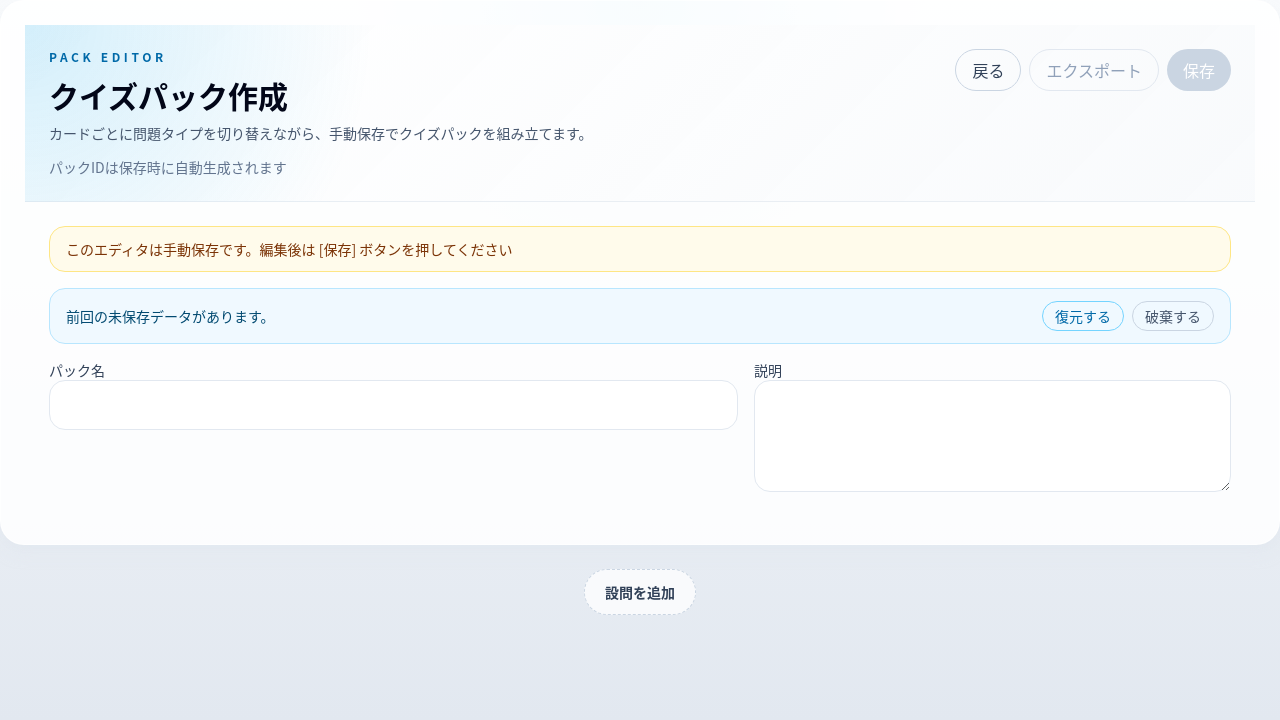
Test case: QuizEditorPage › クラッシュリカバリ › 「破棄する」を選択するとリカバリデータを削除して通常起動する
The image size is (1280, 720).
Click the button "破棄する".
click(1173, 316)  # box left=1132, top=301, right=1214, bottom=331
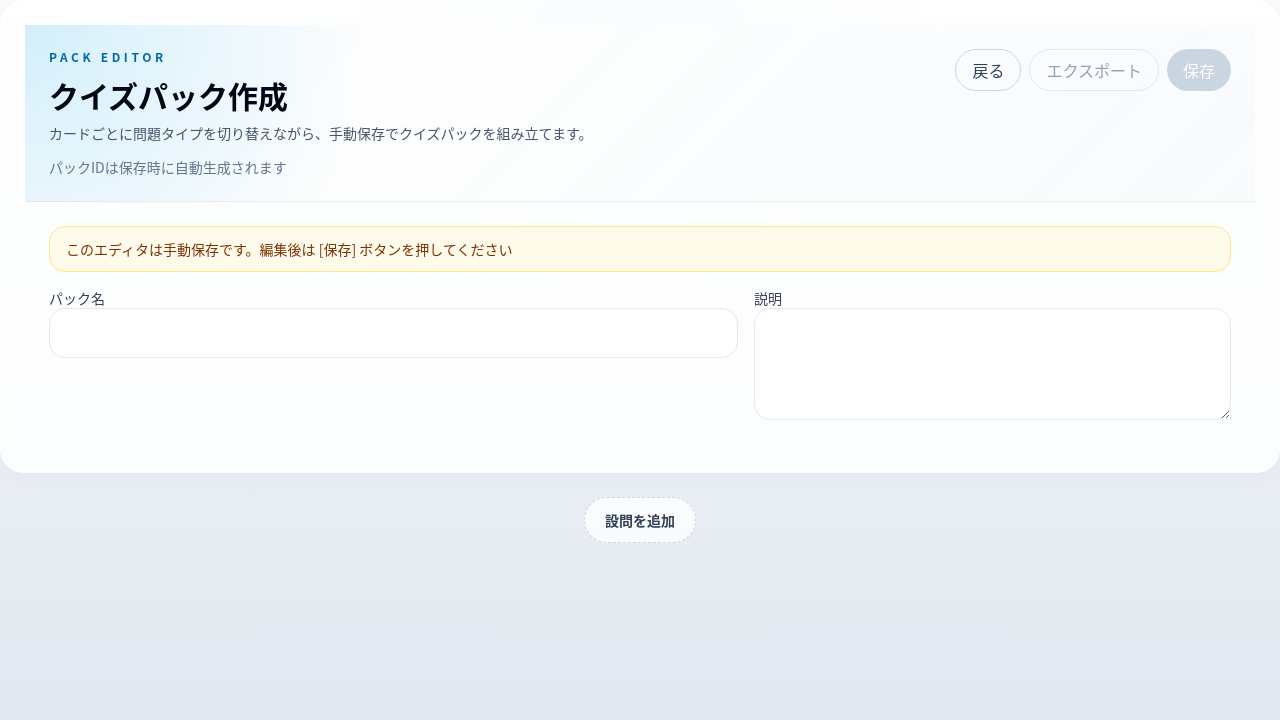
expect the field labelled "パック名" is empty: met, box left=49, top=308, right=738, bottom=358
expect the text "前回の未保存データがあります。" is gone: met
